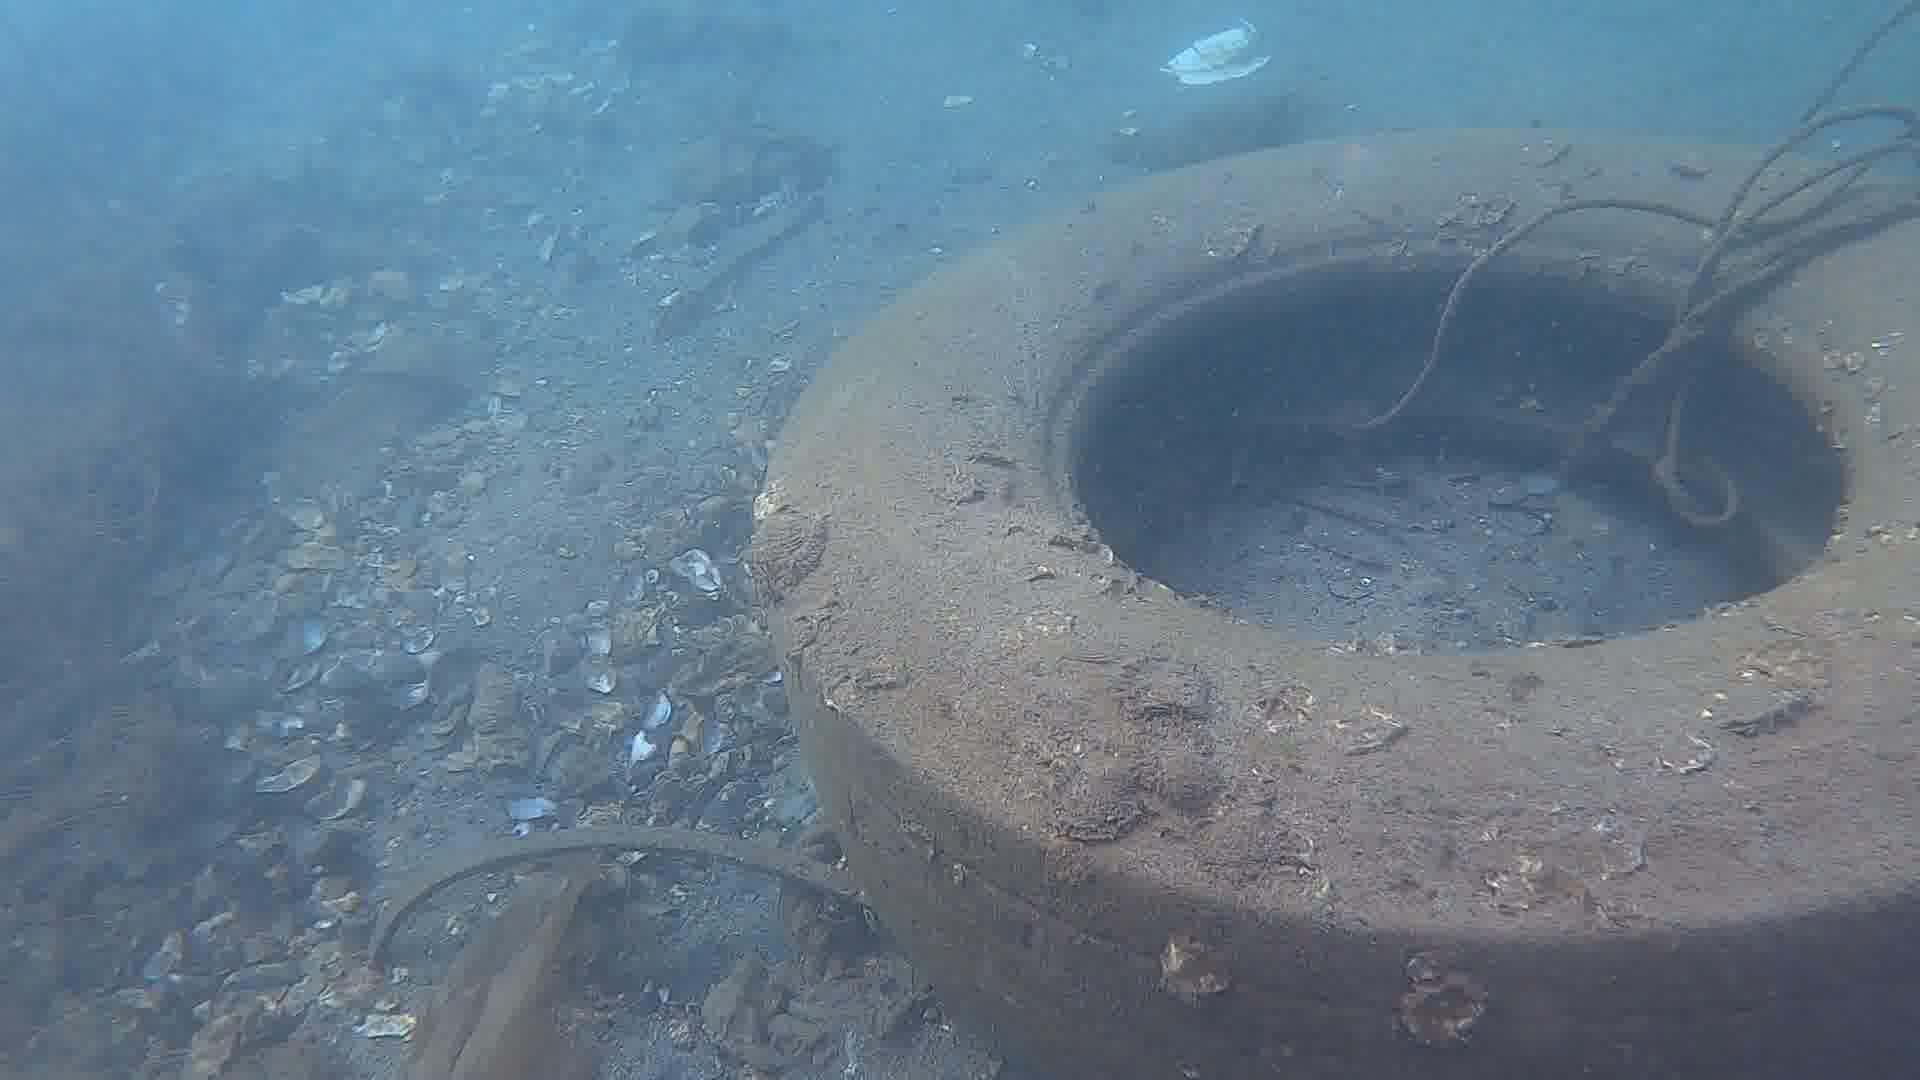bundle of ropes: (1366, 0, 1920, 529)
tire: (754, 120, 1920, 1080)
